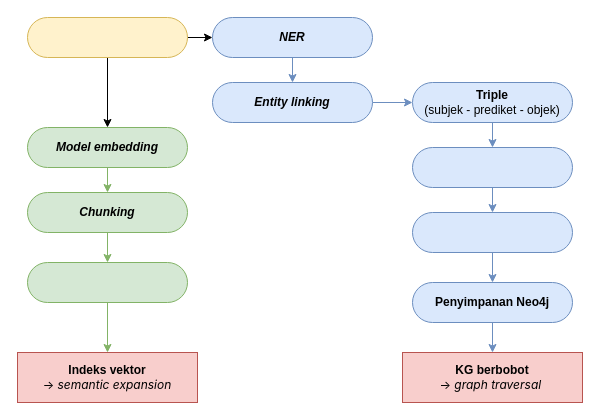
Image size: 600x420. Some labels were removed from this diagram. Here are the shapes that lost their labels. From the top down, the centre of each, then its label:
point (107, 37): Preprocessing Text
point (492, 167): Penggabungan triple
point (492, 232): Pembobotan relasi
point (107, 282): Penyimpanan FAISS
